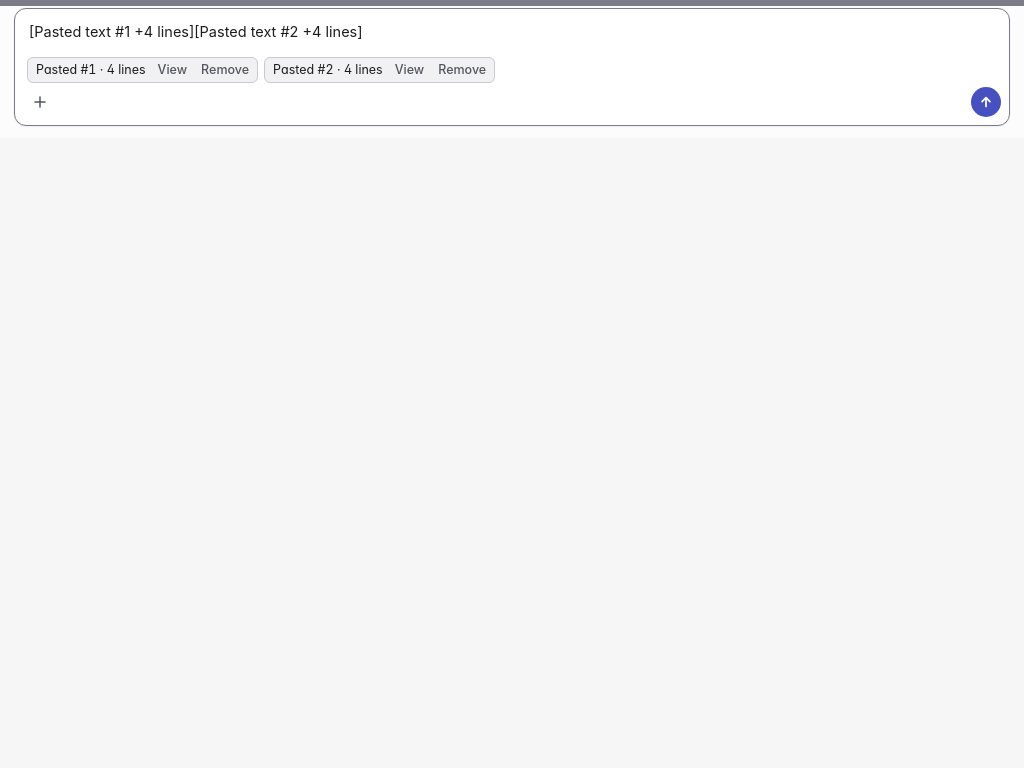
it: collapsing a large text paste › while a send is held, the paste can be viewed but not removed
This screenshot has width=1024, height=768.
Press Enter in the text box, box left=15, top=9, right=1009, bottom=53
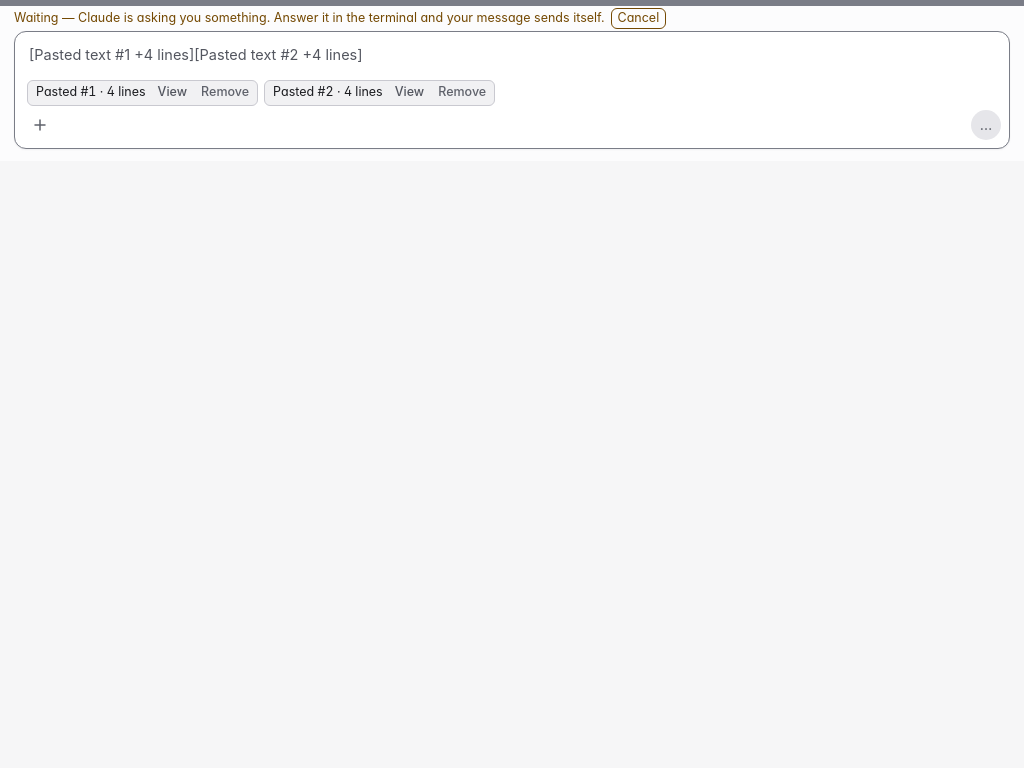
Now the button with aria-label "Remove pasted text #1" is disabled, box left=195, top=82, right=255, bottom=104
Click the button with aria-label "View pasted text #1". click: coordinates (172, 93)
box: left=152, top=82, right=193, bottom=104
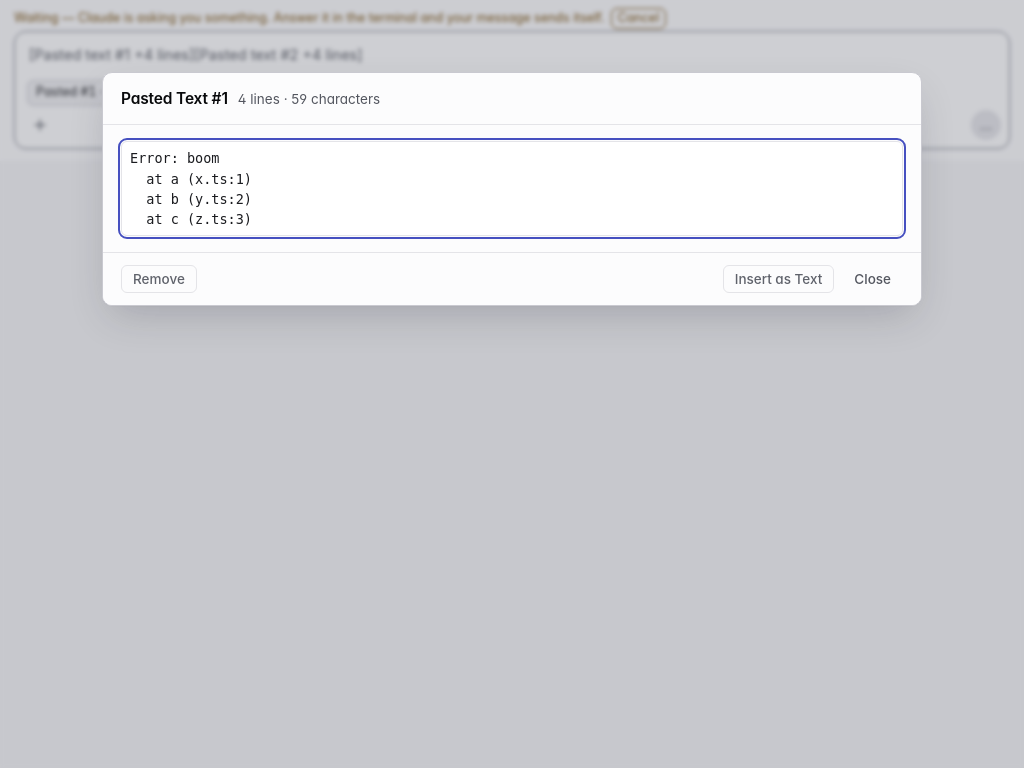
Now the button "Insert as Text" is disabled, box left=723, top=265, right=834, bottom=293
